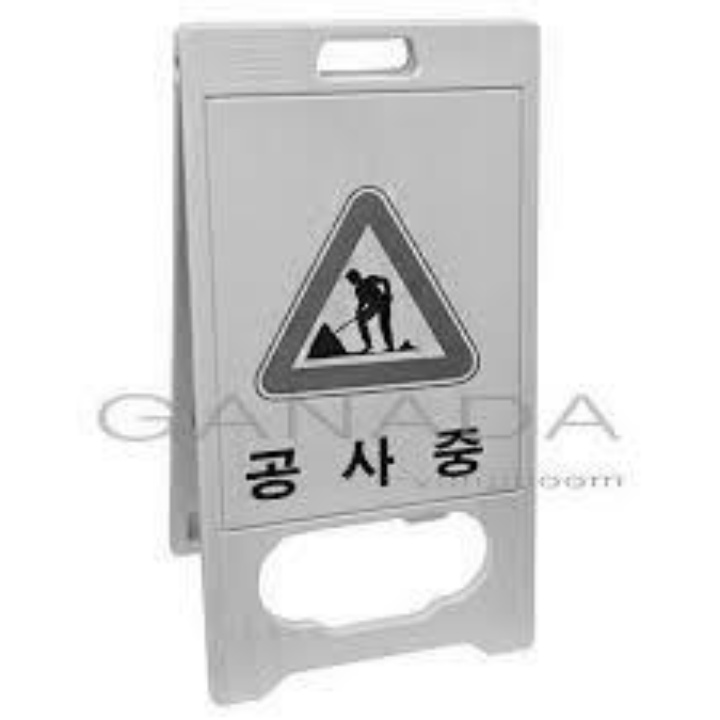const: (289, 248, 439, 355)
